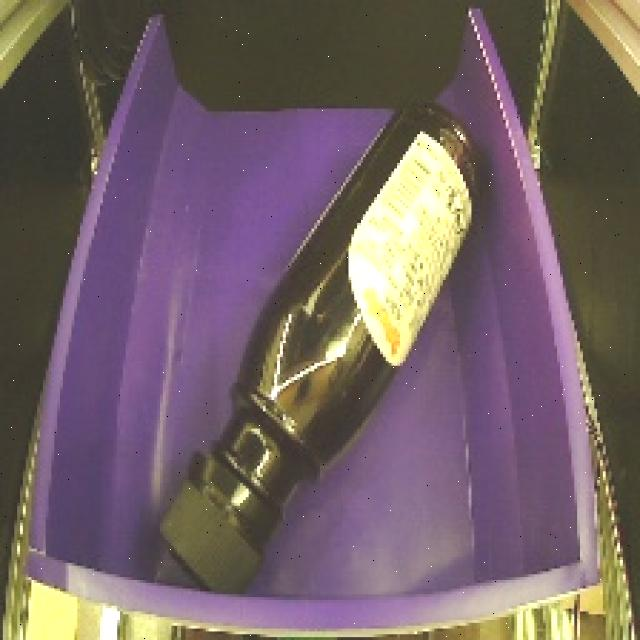plastic: (110, 79, 528, 611)
